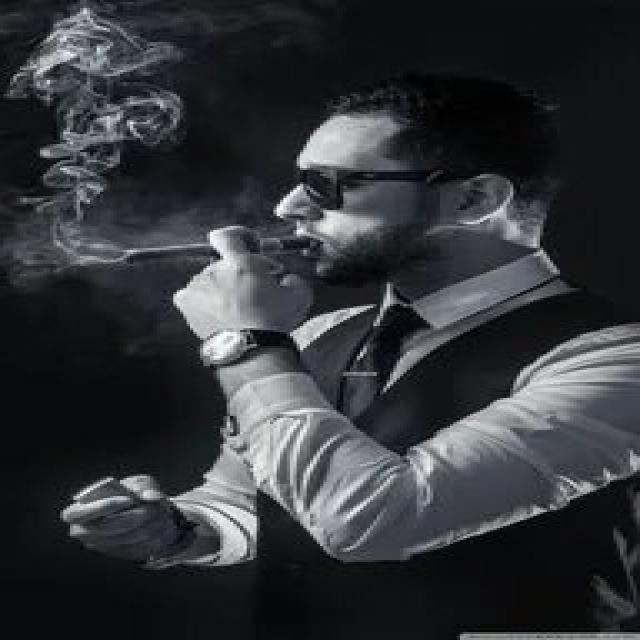smoke: (123, 236, 317, 268)
